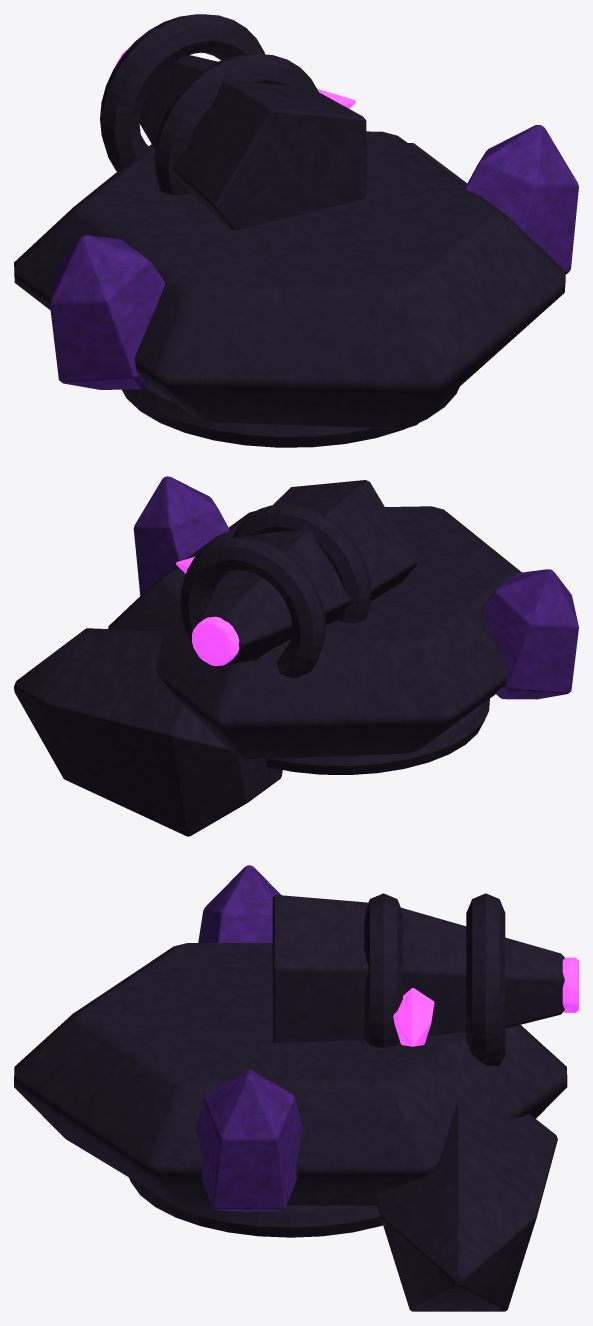
Rendered from conclave_fracasseur.gltf.
The picture shows the model from 3 angles, top to bottom: view 1: azimuth 30°, elevation 25°; view 2: azimuth 150°, elevation 25°; view 3: azimuth 270°, elevation 25°; orthographic projection. The views are drawn at different scales.
Visible parts, largest first — view 1: Body.006_Geometry, GunRecoil.007_Geometry; view 2: Body.006_Geometry, GunRecoil.007_Geometry; view 3: Body.006_Geometry, GunRecoil.007_Geometry.
Boxes of the visible parts, box(x1,y1,x2,y2) form: Body.006_Geometry: box(14, 125, 578, 447); GunRecoil.007_Geometry: box(100, 14, 366, 229); Body.006_Geometry: box(14, 476, 578, 836); GunRecoil.007_Geometry: box(176, 480, 416, 678); Body.006_Geometry: box(14, 865, 567, 1311); GunRecoil.007_Geometry: box(272, 893, 578, 1065).
Bounding box in the file's own units: 2.35 × 1.43 × 2.19.
Materials: 3 (2 with a texture image).
